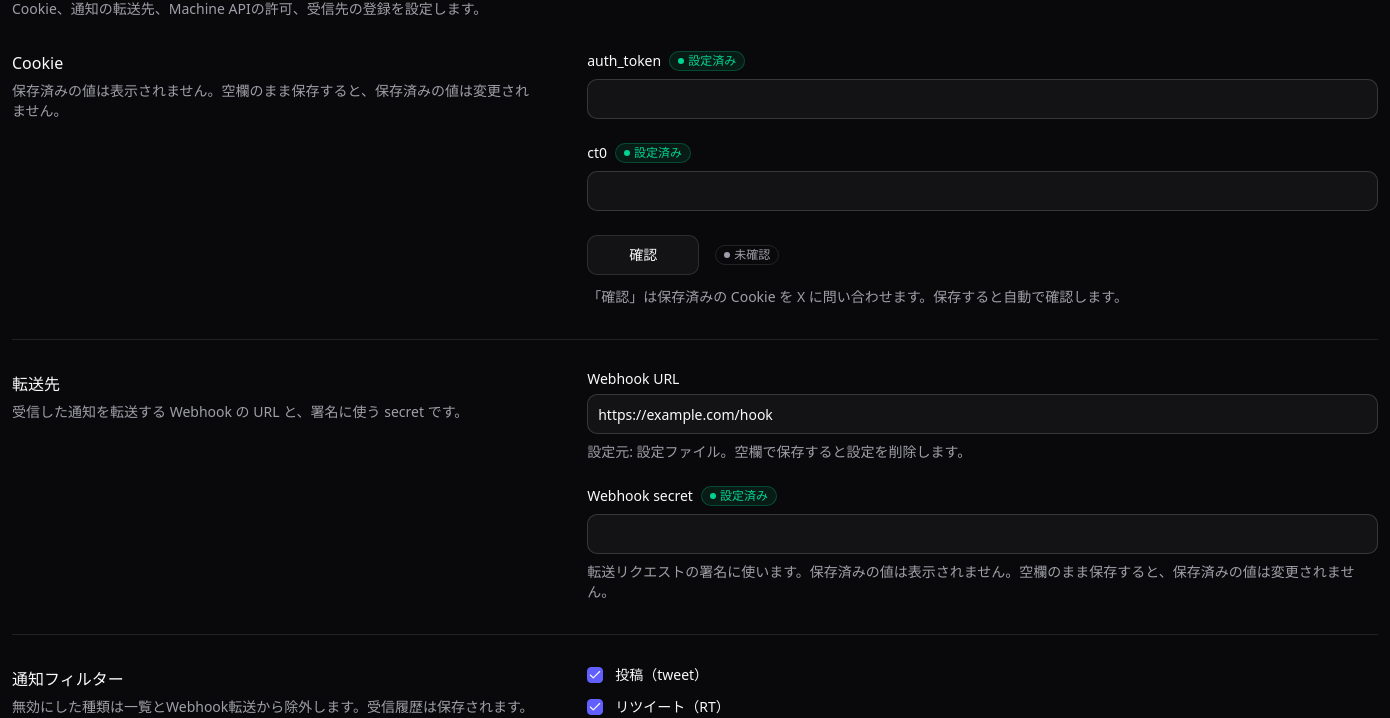
Settings › sends null for blank cookies (retention) and clears inputs after save
Replace the text in the field labelled "Webhook URL" with "https://new.example/h" at (983, 414), box top-left (587, 394), bottom-right (1378, 434)
(page scrolled)
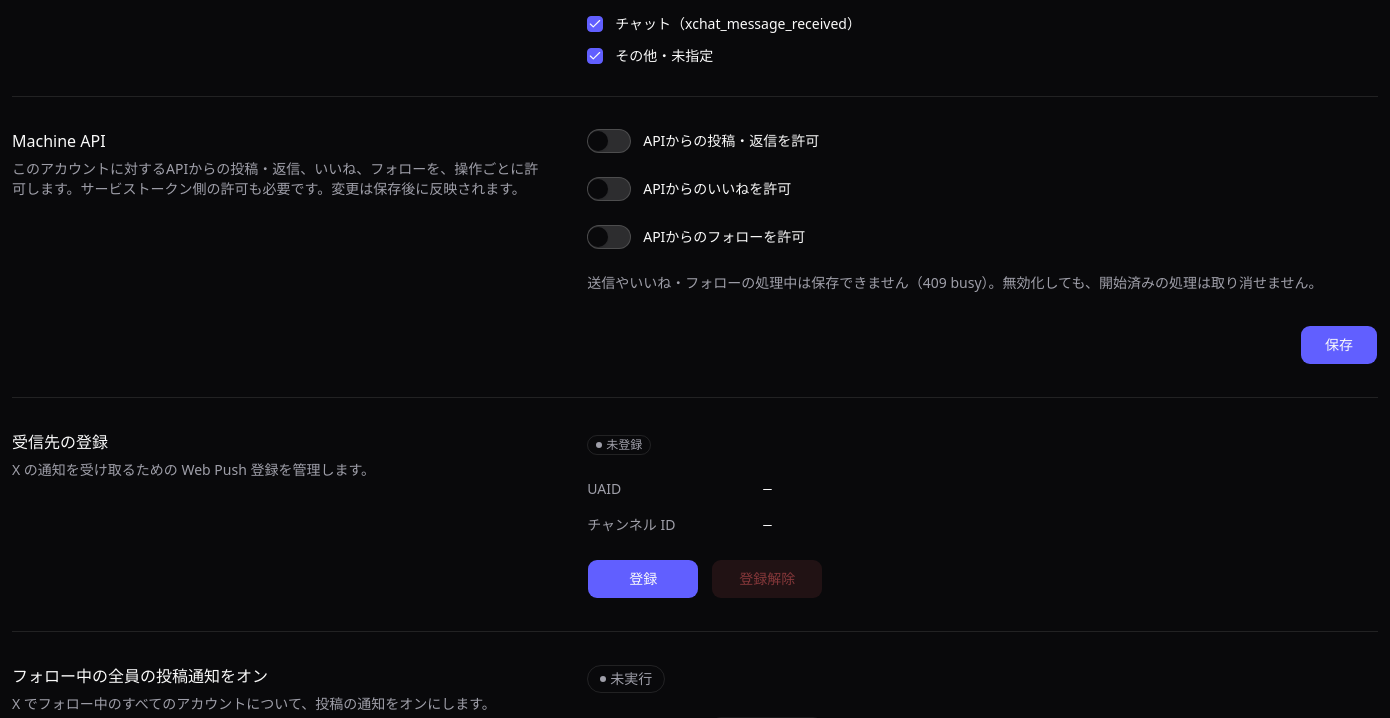
Click the button "保存" at (1339, 345), box top-left (1300, 325), bottom-right (1378, 365)
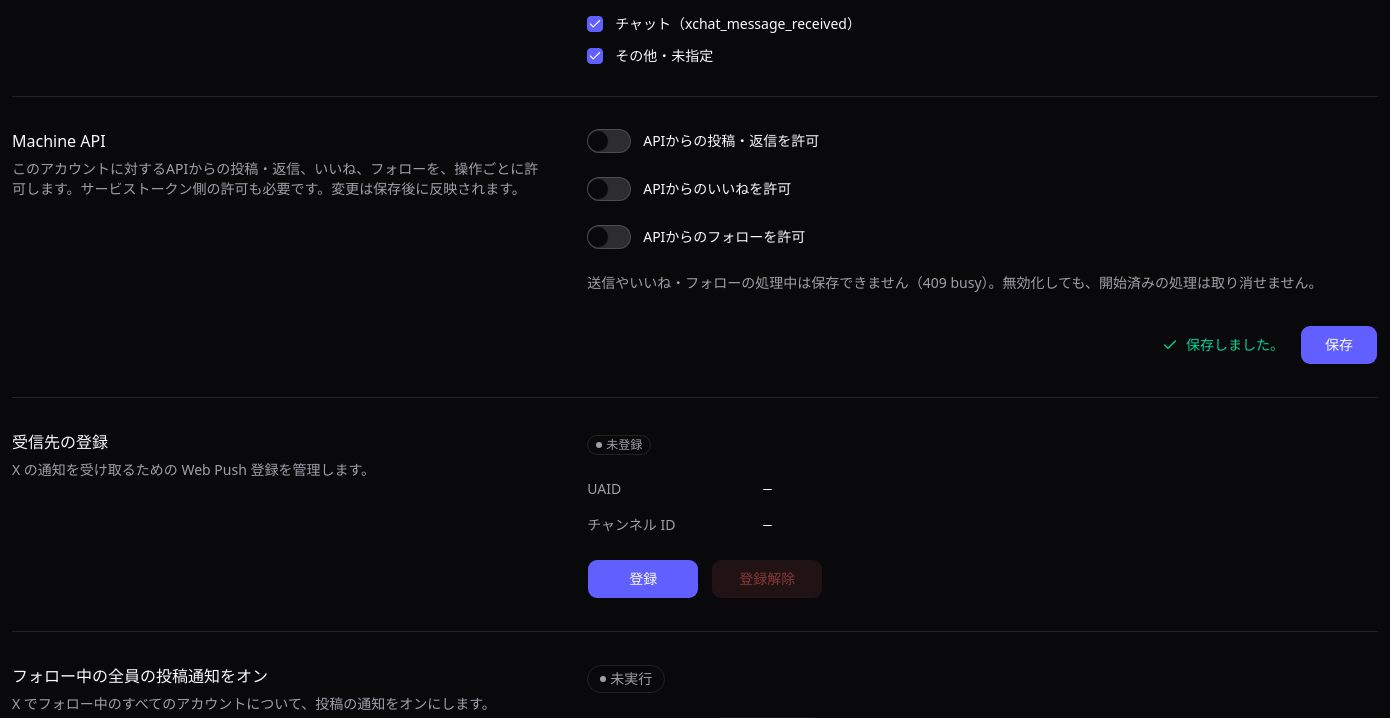
Now the text "保存しました。" is shown, box top-left (1186, 335), bottom-right (1284, 355)
